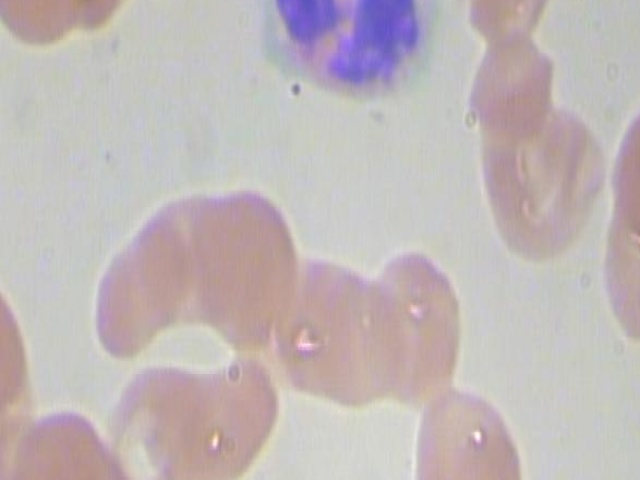RBC: (470, 79, 612, 272), (352, 243, 468, 426), (314, 244, 410, 413), (91, 217, 190, 362), (399, 381, 539, 480)
WBC: (261, 0, 451, 94)
